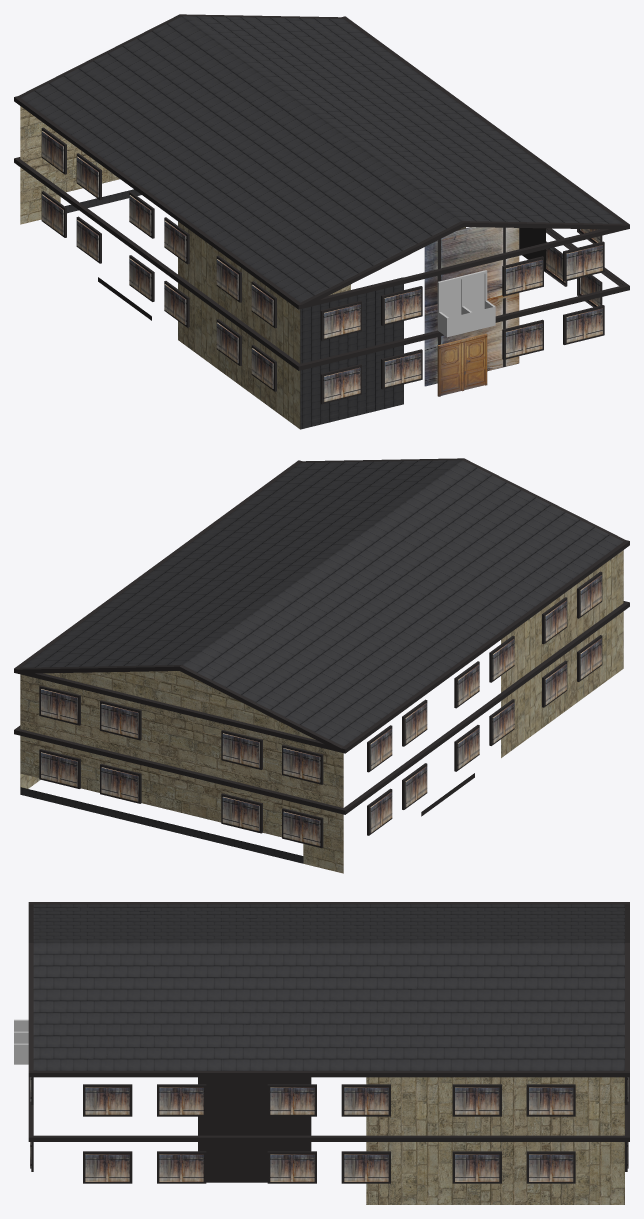
The model's file is mairie.fbx.
3 views of the same model, one above another, from view 1: azimuth 30°, elevation 25°; view 2: azimuth 150°, elevation 25°; view 3: azimuth 270°, elevation 25° (orthographic). The views are drawn at different scales.
Visible parts, largest first — view 1: Toit_Plane, Mairie_Cube, fenetre_Cube, Balcon_Plane_004, Cube_001; view 2: Toit_Plane, Mairie_Cube, fenetre_Cube; view 3: Toit_Plane, Mairie_Cube, fenetre_Cube, Balcon_Plane_004.
Boxes of the visible parts, x1,y1,x2,y2 form: Toit_Plane: (14,14,629,370); Mairie_Cube: (20,106,545,429); fenetre_Cube: (41,127,604,404); Balcon_Plane_004: (437,270,495,337); Cube_001: (437,333,487,396); Toit_Plane: (14,458,629,814); Mairie_Cube: (20,550,623,873); fenetre_Cube: (39,571,602,848); Toit_Plane: (28,902,629,1141); Mairie_Cube: (198,1077,624,1204); fenetre_Cube: (30,1077,628,1183); Balcon_Plane_004: (14,1019,28,1064).
Size of the model in its own units: 82 by 40 by 125.
5 materials, 4 textured.
